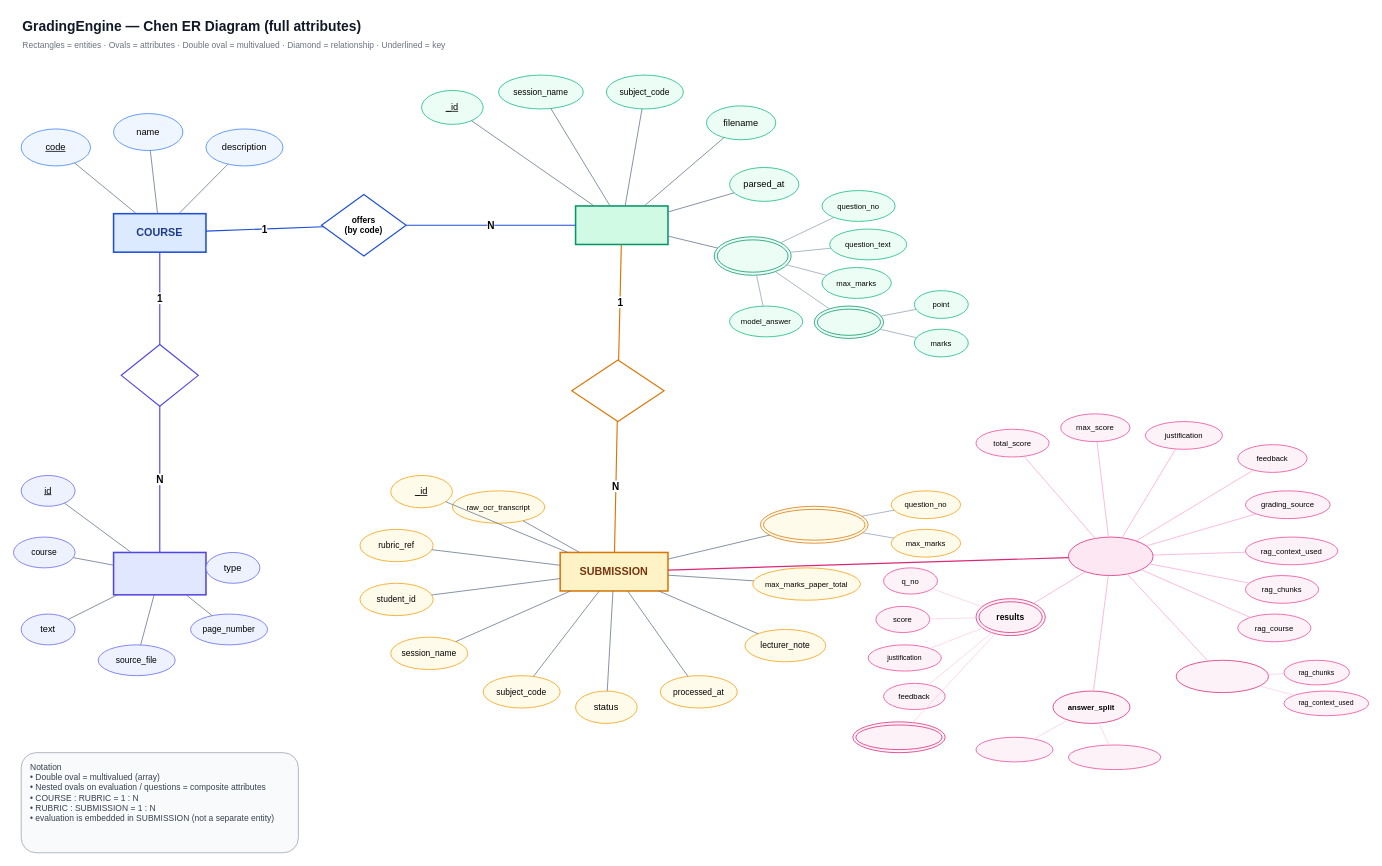
Some shapes in this 1382 by 866 pixel diagram are drawn without their labels. Here are the shapes that lost their labels. From the top down, the centre of each, then its label:
At point 621,225: "RUBRIC".
At point 752,255: "questions".
At point 849,321: "criteria".
At point 159,375: "indexes (by code)".
At point 617,390: "grades (rubric_ref)".
At point 814,524: "max_marks_per_question".
At point 159,573: "LECTURE CHUNK".
At point 1110,556: "evaluation".
At point 1222,676: "rag_per_question".
At point 898,737: "criteria_breakdown".
At point 1014,749: "buckets_found".
At point 1114,757: "per_question_source".
